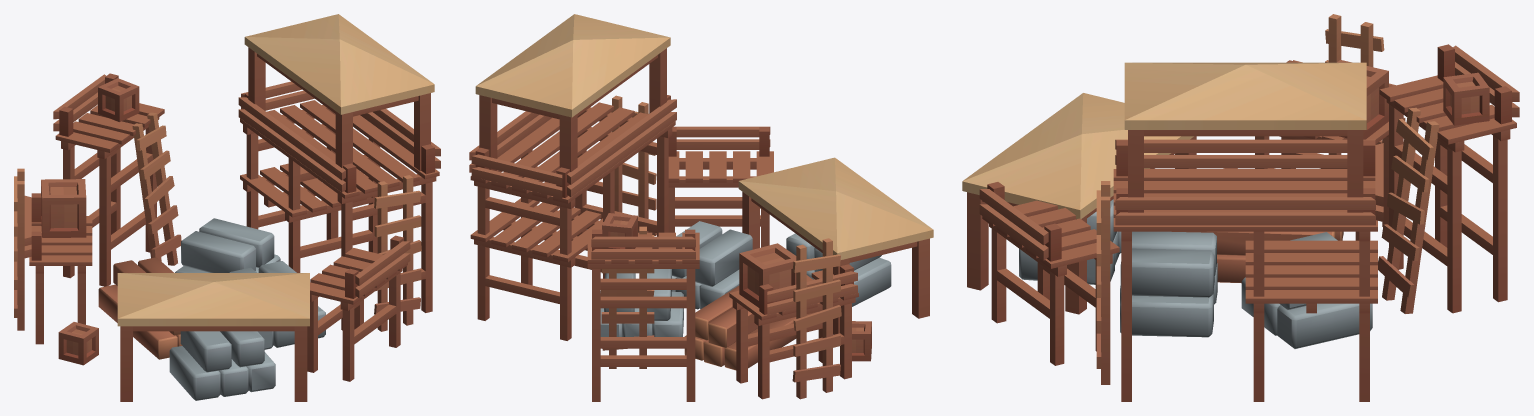
The model's file is kaykit-medieval-hexagon-pack-building-scaffolding.glb.
3 views of the same model, side by side, from view 1: azimuth 30°, elevation 25°; view 2: azimuth 150°, elevation 25°; view 3: azimuth 270°, elevation 25° (orthographic). The views are drawn at different scales.
Parts seen in each view (by area): view 1: building_scaffolding; view 2: building_scaffolding; view 3: building_scaffolding.
Boxes of the visible parts, x1,y1,x2,y2 form: building_scaffolding: [14, 14, 440, 401]; building_scaffolding: [469, 14, 933, 401]; building_scaffolding: [962, 14, 1519, 401].
Bounding box in the file's own units: 1.9 × 1.3 × 2.11.
1 material, 1 textured.
